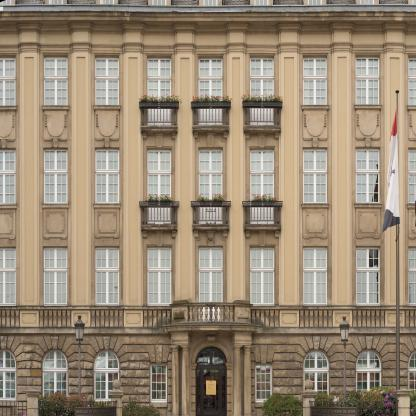Balcony: (141, 201, 178, 226), (141, 102, 178, 127), (244, 201, 280, 226), (244, 102, 280, 127), (193, 102, 229, 127), (193, 201, 229, 226), (193, 303, 229, 324)
Building Outline: (0, 0, 416, 415)
Cornice: (154, 231, 165, 247), (205, 132, 216, 148), (256, 231, 267, 246), (205, 231, 216, 246), (256, 133, 267, 148), (154, 133, 165, 148), (205, 335, 216, 346)
Door: (196, 365, 227, 416), (250, 171, 274, 225), (147, 171, 171, 224), (199, 268, 222, 322), (199, 170, 222, 224), (250, 77, 274, 125), (147, 77, 171, 125), (199, 77, 222, 125)
Facade: (0, 0, 416, 415)
Floor: (0, 22, 416, 127), (0, 235, 416, 328), (0, 136, 416, 226)
Floor Slab: (0, 13, 416, 22), (0, 328, 416, 337), (0, 226, 416, 235), (0, 127, 416, 136)
Ground Floor: (0, 336, 416, 416)
Molding: (0, 22, 416, 36), (0, 41, 416, 55), (0, 324, 416, 336)
Pillar: (390, 57, 400, 300), (284, 58, 294, 300), (338, 57, 347, 300), (129, 58, 138, 300), (25, 57, 33, 300), (77, 57, 85, 300), (181, 58, 189, 300), (233, 58, 241, 300)
Sill: (301, 105, 330, 111), (301, 203, 330, 209), (93, 105, 121, 111), (93, 203, 121, 209), (354, 105, 382, 111), (354, 203, 382, 209), (42, 105, 69, 111), (42, 203, 69, 209), (0, 105, 17, 111), (0, 204, 17, 209), (406, 105, 416, 110), (406, 203, 416, 208)
Window: (250, 246, 274, 305), (147, 247, 171, 305), (303, 247, 327, 305), (96, 247, 119, 305), (356, 247, 379, 305), (44, 247, 67, 305), (42, 350, 67, 402), (94, 350, 119, 402), (304, 350, 329, 402), (356, 350, 381, 402), (356, 149, 380, 203), (44, 149, 68, 203), (96, 149, 119, 203), (304, 149, 327, 203), (356, 55, 380, 105), (44, 55, 68, 105), (96, 55, 119, 105), (304, 55, 327, 105), (0, 247, 16, 305), (0, 350, 16, 401), (0, 149, 15, 203), (0, 56, 15, 106), (150, 364, 167, 402), (256, 364, 272, 402), (196, 347, 227, 365), (147, 148, 171, 171), (250, 148, 274, 171), (147, 55, 171, 77), (199, 247, 222, 269), (199, 55, 222, 77), (199, 148, 222, 170), (250, 55, 274, 76), (408, 246, 416, 304), (408, 148, 416, 203), (408, 351, 416, 402), (408, 55, 416, 105)
